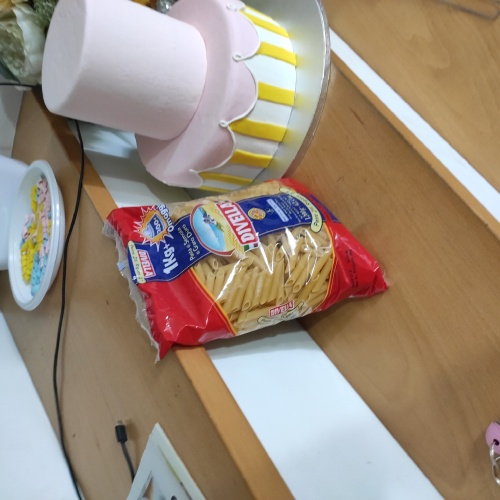pasta: (126, 204, 373, 332)
